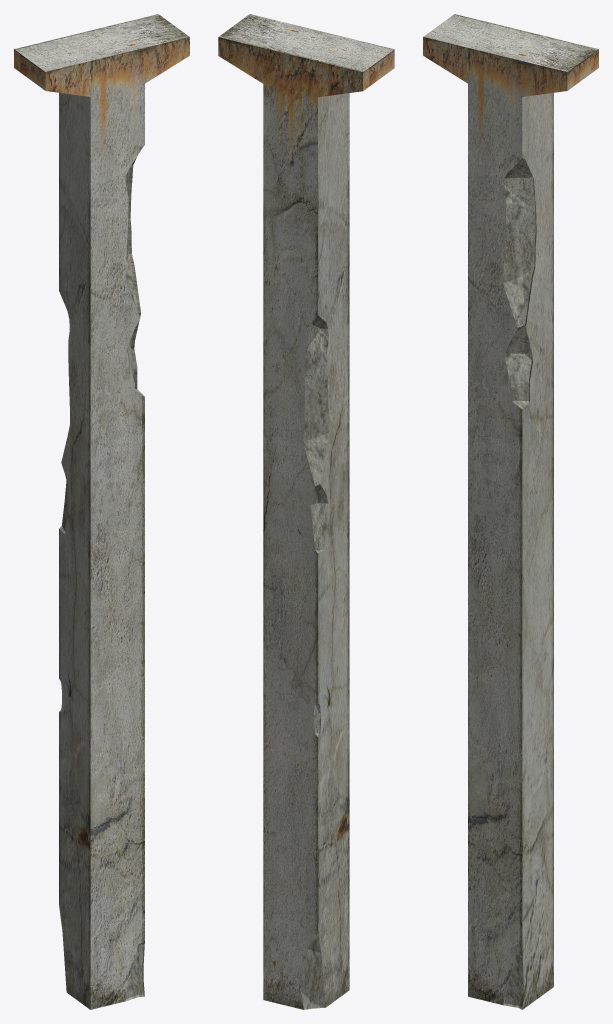
Rendered from Factory1Column07.FBX.
3 views of the same model, side by side, from view 1: azimuth 30°, elevation 25°; view 2: azimuth 150°, elevation 25°; view 3: azimuth 330°, elevation 25° (orthographic).
Parts seen in each view (by area): view 1: Factory1Column07; view 2: Factory1Column07; view 3: Factory1Column07.
Boxes of the visible parts, x1,y1,x2,y2 form: Factory1Column07: [14, 14, 189, 1009]; Factory1Column07: [218, 14, 394, 1009]; Factory1Column07: [423, 14, 598, 1009].
Size of the model in its own units: 124 by 782 by 46.88.
